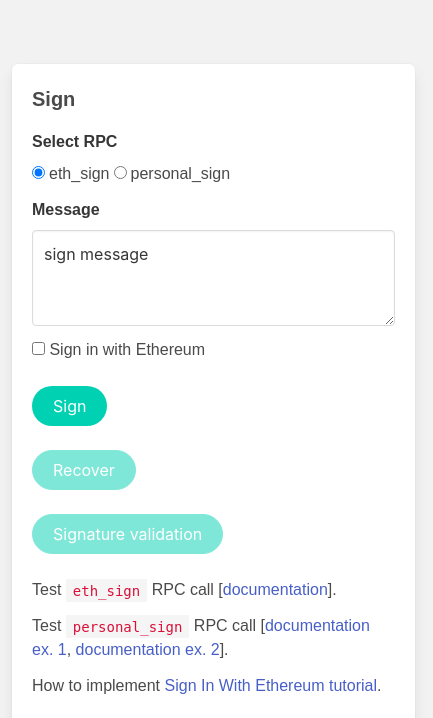
can sign message using eth_sign
// Clicking first `personal_sign_radio_btn` radio button should have no effect and still use eth_sign
Click the radio button with test id "personal_sign_radio_btn" at (120, 172), box 114,166 -> 126,179
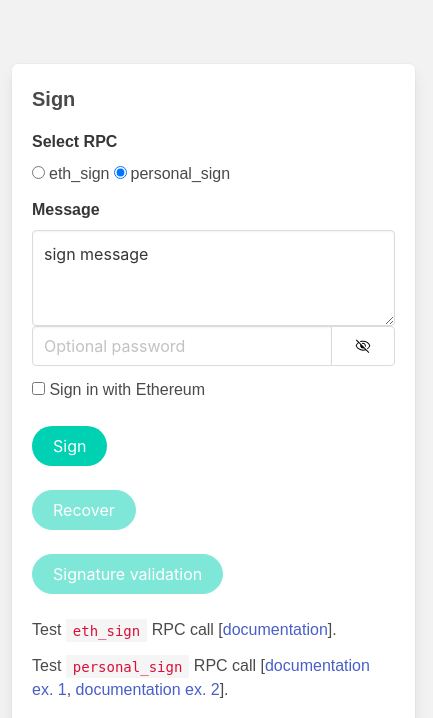
Click the radio button with test id "eth_sign_radio_btn" at (38, 172), box 32,166 -> 45,179
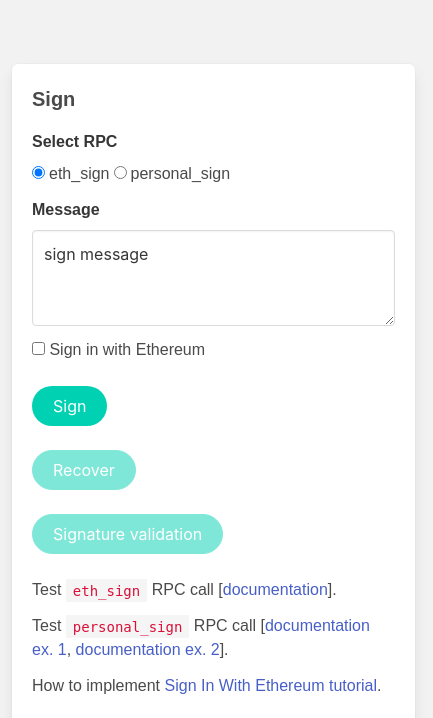
Click the button with test id "sign" at (70, 406), box 32,386 -> 107,426
(page scrolled)
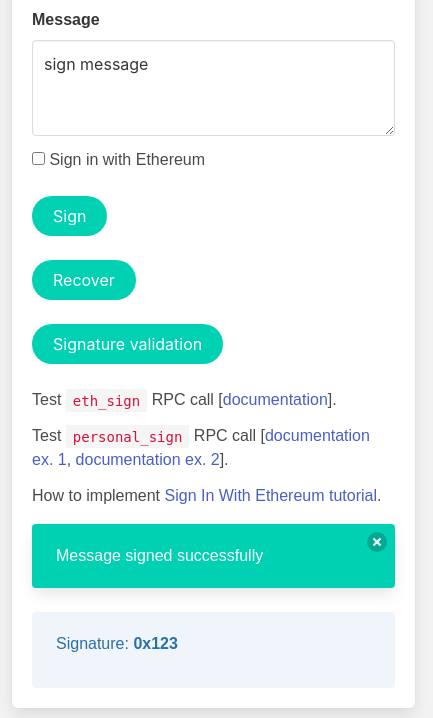
Now the element with test id "notification" reads "Message signed successfully", box 56,547 -> 263,564
Now the text with test id "signature" reads "0x123", box 133,635 -> 178,652
